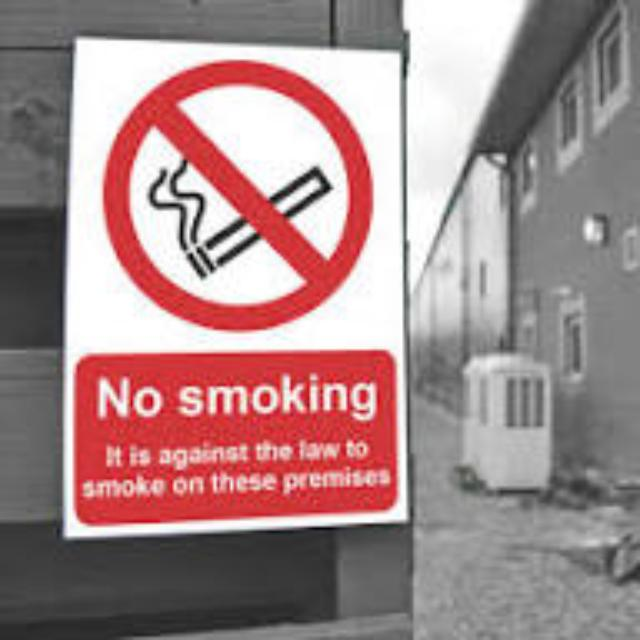cam hut thuoc: (67, 37, 403, 533)
